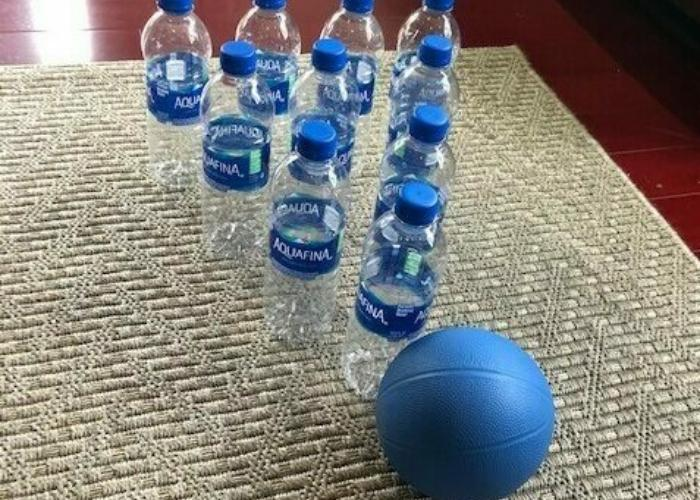bottle: (138, 0, 200, 194)
